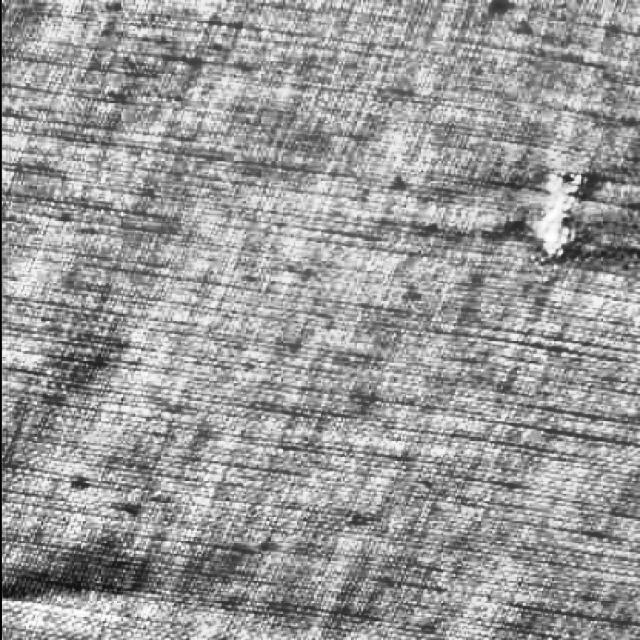hole: (517, 149, 599, 279)
